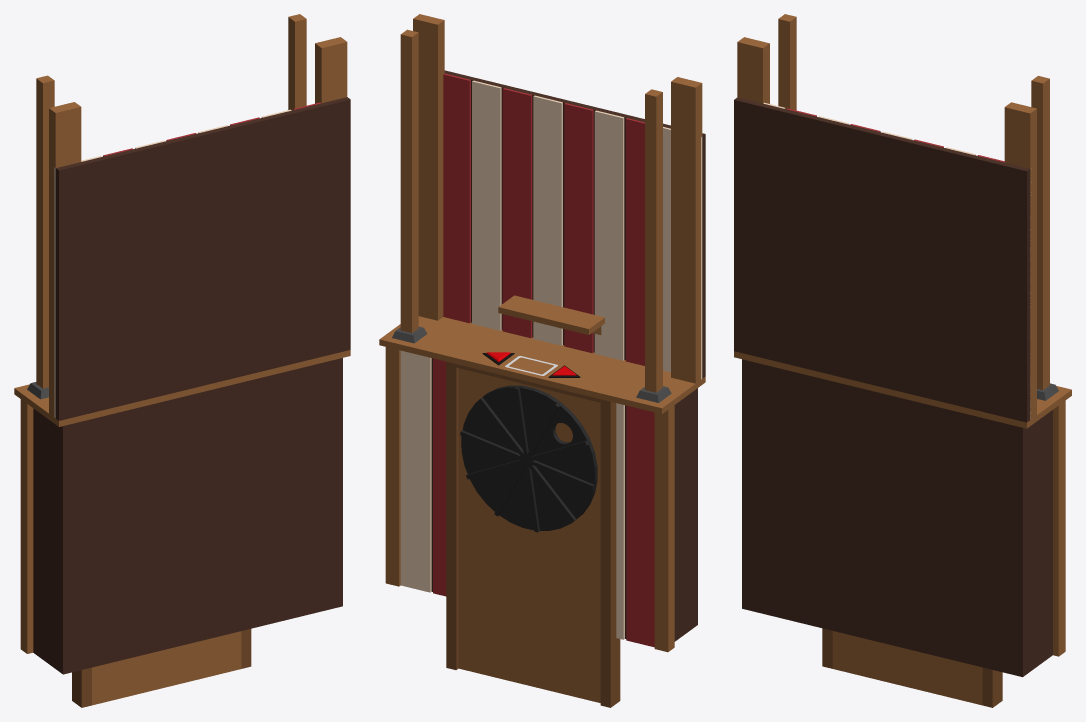
File: Shop.fbx
3 views of the same model, side by side, from view 1: azimuth 30°, elevation 25°; view 2: azimuth 150°, elevation 25°; view 3: azimuth 330°, elevation 25° (orthographic). The views are drawn at different scales.
Visible parts, largest first — view 1: Front, Back Wall, Pillar, Backboard, Edge, Edge.001, Hang, Edges, Planks; view 2: Planks, Backboard, Planks.001, Edge, Wheel, Pillar, Hang, Edges, Edge.001, Front, Back Wall, Shelf; view 3: Front, Back Wall, Pillar, Backboard, Edge, Edge.001, Hang, Edges.
Boxes of the visible parts, <box> form: Front: <box>33,358,342,674</box>; Back Wall: <box>55,97,350,420</box>; Pillar: <box>27,14,306,399</box>; Backboard: <box>92,631,241,705</box>; Edge: <box>49,37,347,416</box>; Edge.001: <box>20,399,33,653</box>; Hang: <box>14,350,350,426</box>; Edges: <box>72,629,251,707</box>; Planks: <box>54,102,321,417</box>; Planks: <box>443,73,702,379</box>; Backboard: <box>458,368,600,702</box>; Planks.001: <box>400,350,654,647</box>; Edge: <box>413,14,702,383</box>; Wheel: <box>460,385,597,532</box>; Pillar: <box>392,29,671,402</box>; Hang: <box>379,316,705,413</box>; Edges: <box>446,361,620,707</box>; Edge.001: <box>385,347,674,652</box>; Front: <box>431,358,697,641</box>; Back Wall: <box>444,70,705,378</box>; Shelf: <box>498,295,604,334</box>; Front: <box>742,359,1052,677</box>; Back Wall: <box>734,97,1030,422</box>; Pillar: <box>778,14,1058,400</box>; Backboard: <box>832,631,982,705</box>; Edge: <box>737,37,1036,419</box>; Edge.001: <box>1053,400,1065,656</box>; Hang: <box>734,351,1071,428</box>; Edges: <box>822,628,1002,707</box>.
Size of the model in its own units: 25 by 52.14 by 6.67.
